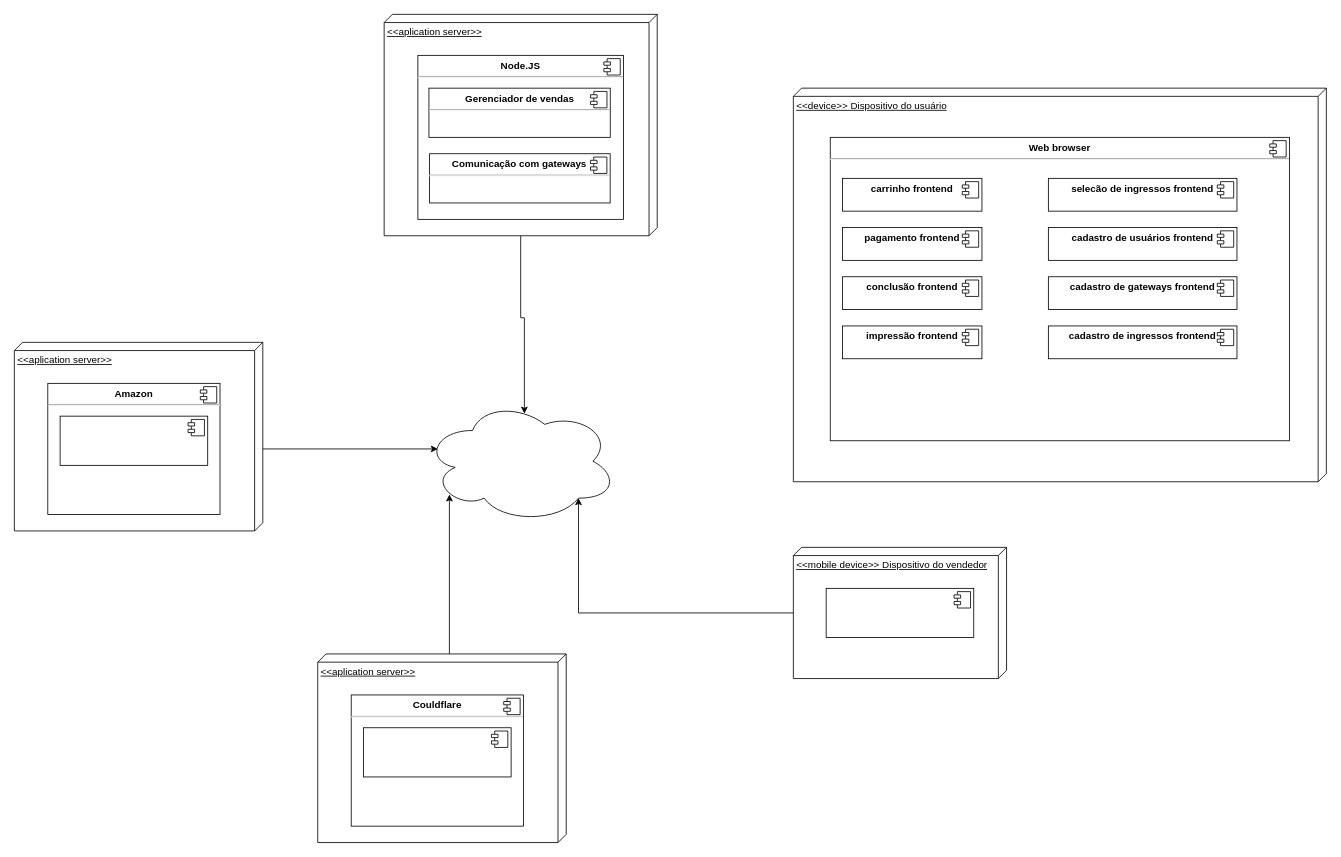
The diagram is 1341 pixels wide and 857 high, and some of its shapes have lost their labels. The shapes that lost their labels are listed below. From the top down, each one's centre as x and y in pixels, then its label:
At (x=133, y=440): "MySql".
At (x=520, y=461): "Internet".
At (x=899, y=613): "Mobile".
At (x=437, y=752): "MongoDb".
